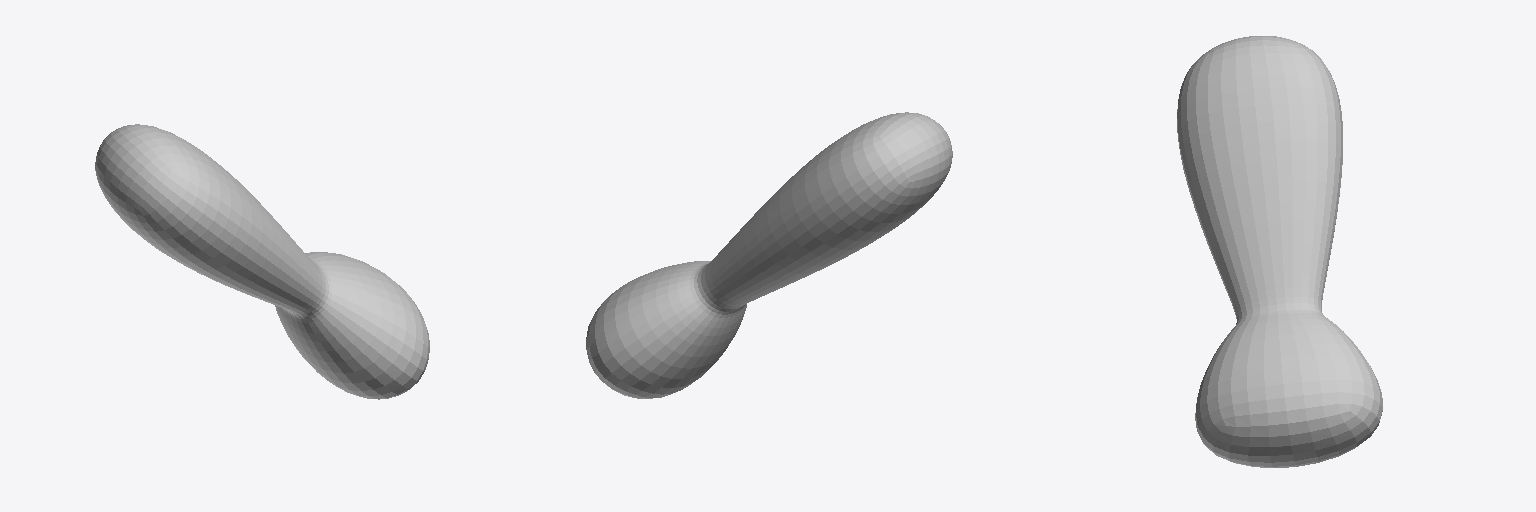
Rendered from toadBrazo2.obj.
3 views of the same model, side by side, from view 1: azimuth 30°, elevation 25°; view 2: azimuth 150°, elevation 25°; view 3: azimuth 270°, elevation 25° (orthographic).
Visible parts, largest first — view 1: Bracitos.001; view 2: Bracitos.001; view 3: Bracitos.001.
Boxes of the visible parts, x1=… form: Bracitos.001: x1=95, y1=124, x2=429, y2=399; Bracitos.001: x1=586, y1=112, x2=952, y2=398; Bracitos.001: x1=1177, y1=36, x2=1382, y2=467.
Size of the model in its own units: 1.89 by 1.8 by 1.07.